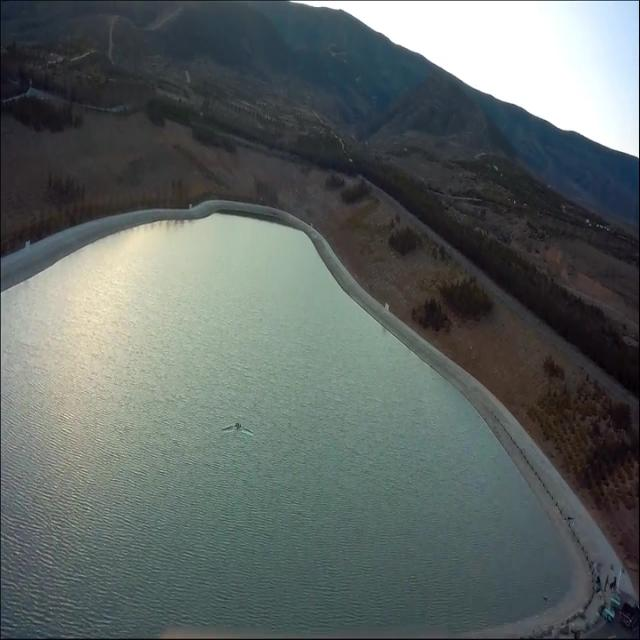iha: (221, 420, 253, 438)
